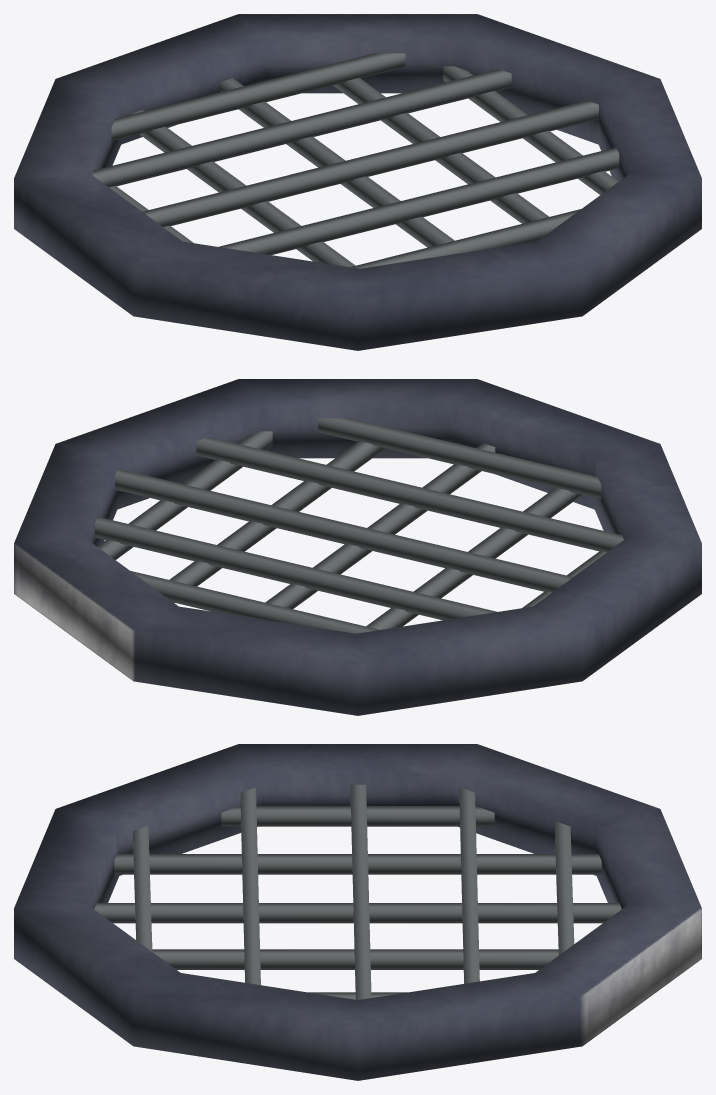
Rendered from dungeon grate.fbx.
3 views of the same model, one above another, from view 1: azimuth 30°, elevation 25°; view 2: azimuth 150°, elevation 25°; view 3: azimuth 270°, elevation 25° (orthographic).
Visible parts, largest first — view 1: polySurface319; view 2: polySurface319; view 3: polySurface319.
Part boxes in pixels (bbox=[...]): polySurface319: bbox=[14, 14, 701, 350]; polySurface319: bbox=[14, 379, 701, 715]; polySurface319: bbox=[14, 744, 701, 1080].
Bounding box in the file's own units: 1.18 × 0.0968 × 1.19.
Materials: 1 (1 with a texture image).
